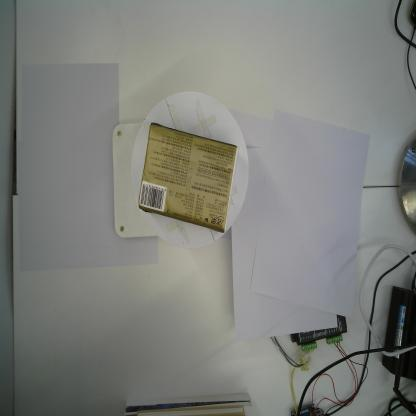Tissue: (136, 120, 238, 237)
